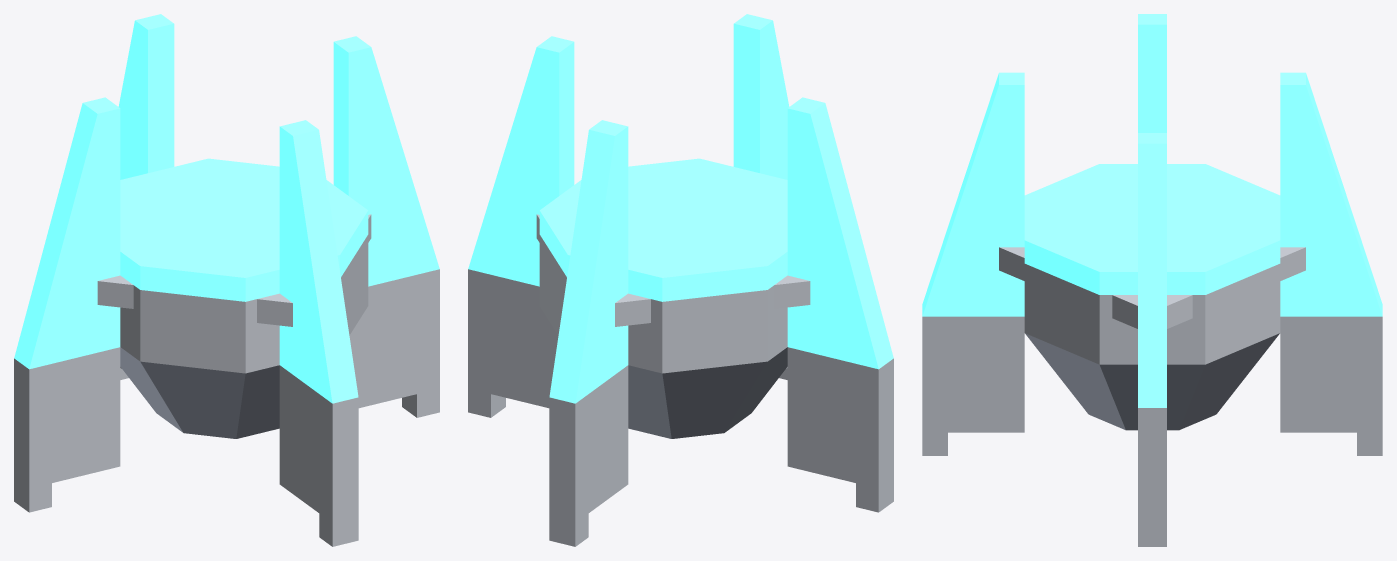
The model's file is rocket_baseA.glb.
3 views of the same model, side by side, from view 1: azimuth 30°, elevation 25°; view 2: azimuth 150°, elevation 25°; view 3: azimuth 270°, elevation 25° (orthographic). The views are drawn at different scales.
Parts seen in each view (by area): view 1: rocket_baseA; view 2: rocket_baseA; view 3: rocket_baseA.
Boxes of the visible parts, x1=… form: rocket_baseA: x1=14, y1=14, x2=439, y2=546; rocket_baseA: x1=468, y1=14, x2=893, y2=546; rocket_baseA: x1=922, y1=14, x2=1382, y2=546.
Bounding box in the file's own units: 1.8 × 1.6 × 1.8.
